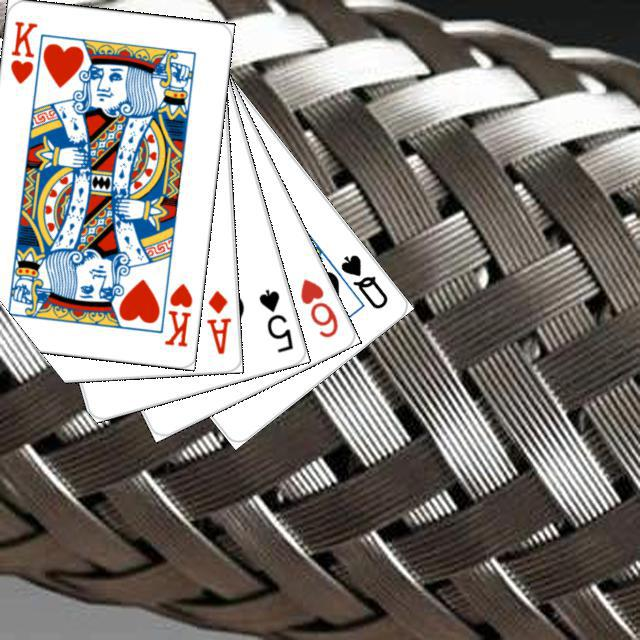5s: (254, 284, 295, 355)
6h: (295, 273, 340, 340)
Ad: (201, 285, 233, 356)
Kh: (152, 270, 194, 349), (5, 16, 39, 86)
Qs: (335, 249, 390, 311)
